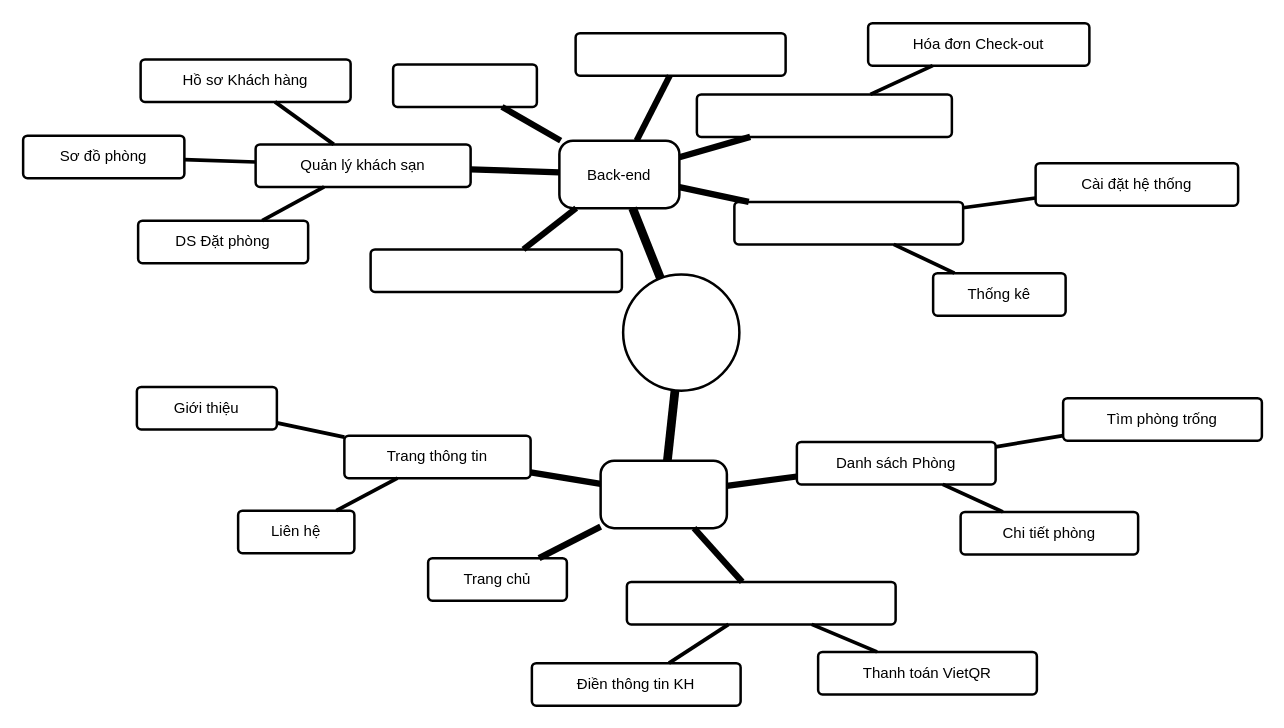
The diagram is 1284 pixels wide and 728 high, and some of its shapes have lost their labels. The shapes that lost their labels are listed below. From the top down, each one's box as (x1, y1, x2, y2) in pixels, then its label:
(574, 31, 786, 76): Nhân sự & Ca làm
(391, 62, 538, 108): Tổng quan
(695, 92, 952, 138): Tiền lương & Tài chính
(732, 200, 964, 245): Báo cáo & Hệ thống
(369, 248, 622, 292): Quản lý Kho & Dịch vụ
(621, 272, 740, 391): Hệ thống Quản lý Khách sạn
(599, 459, 728, 529): Front-end
(625, 580, 896, 625): Đặt phòng & Thanh toán
